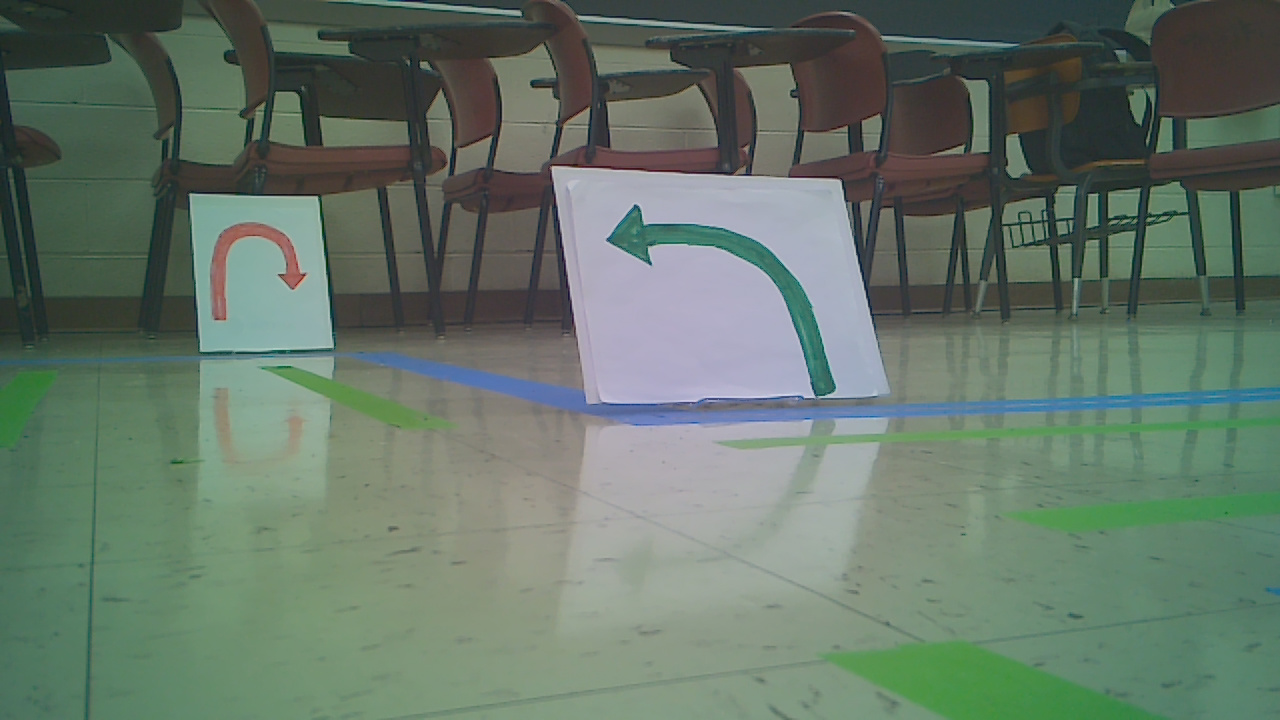greenline: (726, 409, 1275, 449), (270, 362, 451, 430), (1002, 492, 1273, 529)
left: (608, 203, 837, 396)
uturn: (188, 193, 335, 352)
